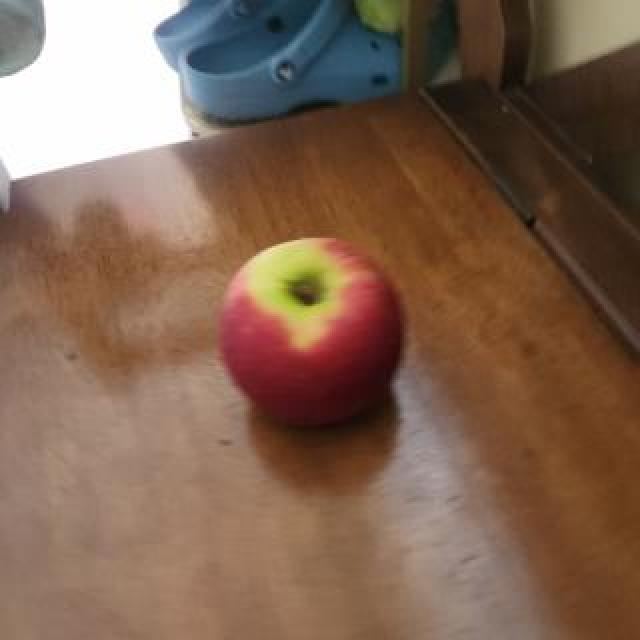Fresh Apple: (226, 227, 398, 420)
